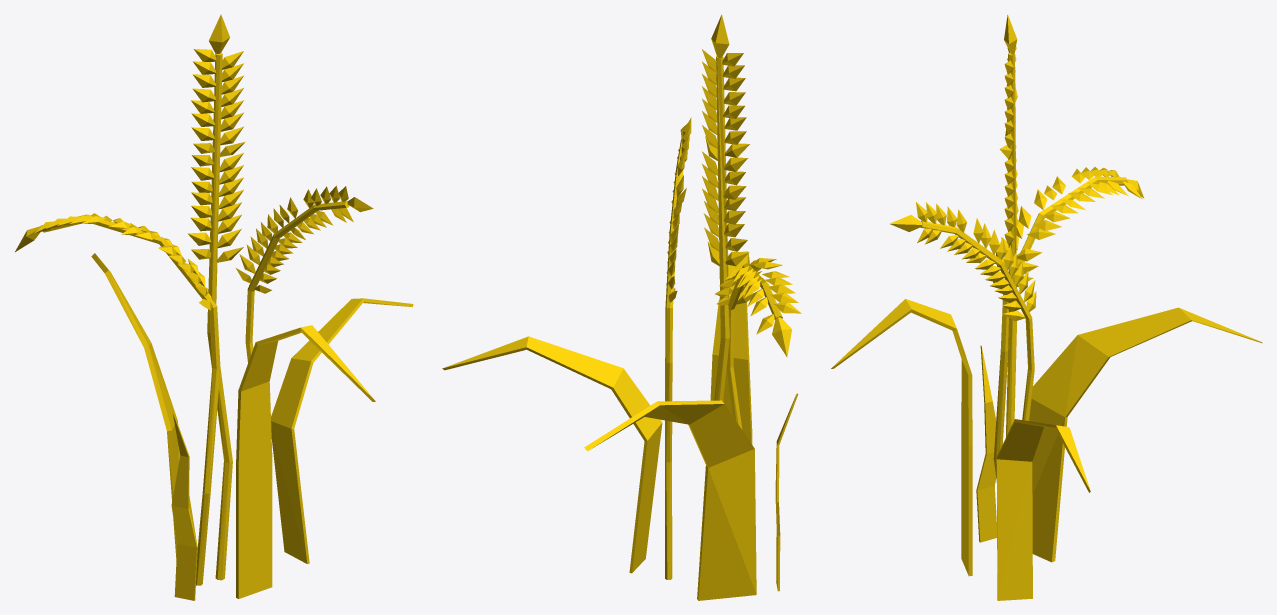
File: wheat1.fbx
3 views of the same model, side by side, from view 1: azimuth 30°, elevation 25°; view 2: azimuth 150°, elevation 25°; view 3: azimuth 270°, elevation 25° (orthographic). The views are drawn at different scales.
Parts seen in each view (by area): view 1: wheat1; view 2: wheat1; view 3: wheat1.
Part boxes in pixels (x1,y1,x2,y2): wheat1: (15,14,413,600); wheat1: (442,14,801,600); wheat1: (831,14,1262,600).
Bounding box in the file's own units: 83.72 × 122 × 87.26.
